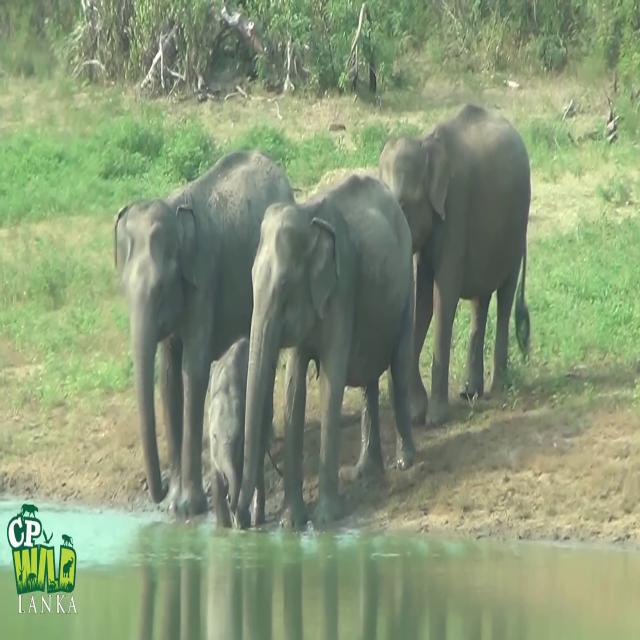Elephant: (113, 148, 317, 519), (235, 172, 416, 530), (378, 102, 532, 428)
